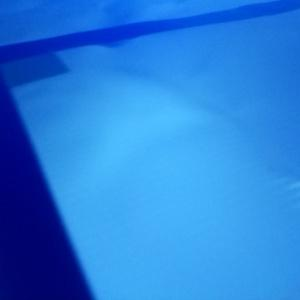bottom_right: (1, 46, 69, 89)
